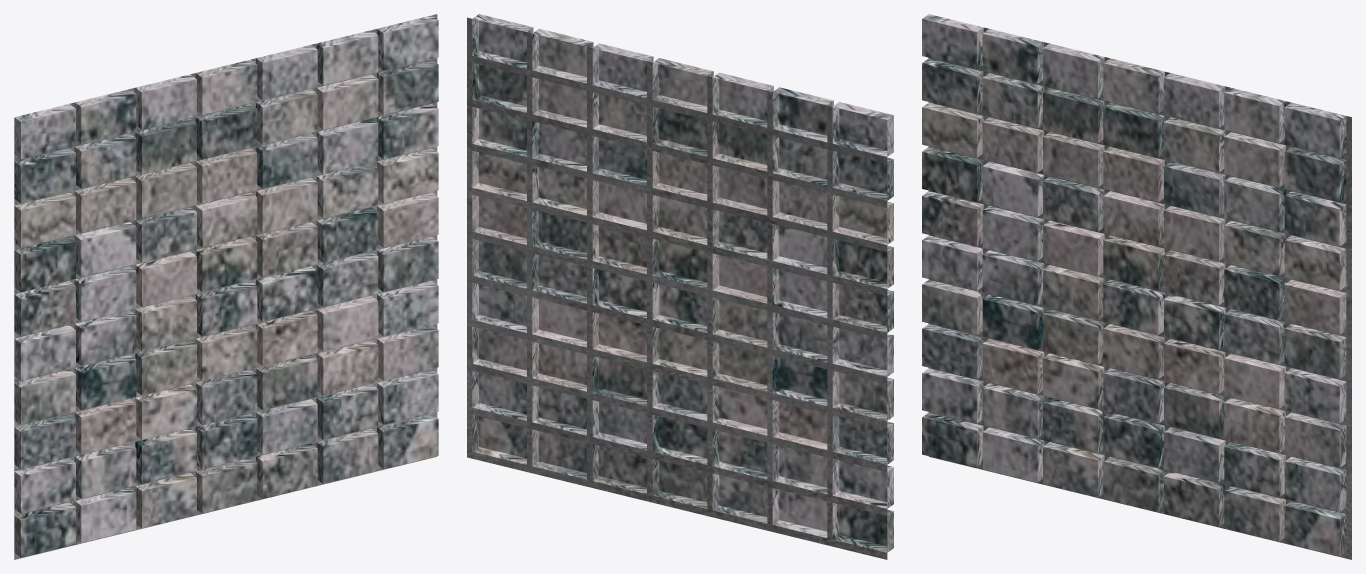
File: Pared_021.fbx
3 views of the same model, side by side, from view 1: azimuth 30°, elevation 25°; view 2: azimuth 150°, elevation 25°; view 3: azimuth 330°, elevation 25° (orthographic).
Visible parts, largest first — view 1: Plane; view 2: Plane; view 3: Plane.
Boxes of the visible parts, box(x1,y1,x2,y2) form: Plane: box(14, 14, 438, 559); Plane: box(467, 14, 893, 559); Plane: box(922, 14, 1351, 559).
Size of the model in its own units: 600 by 600 by 16.4.
